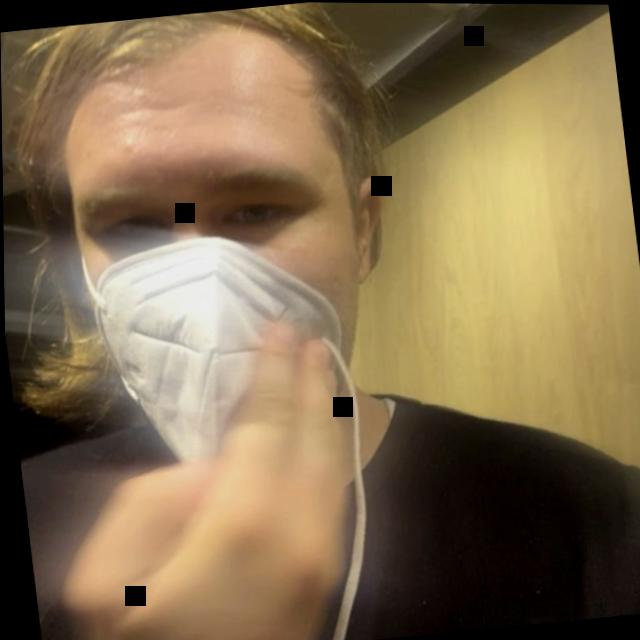Mask: (18, 0, 432, 479)
